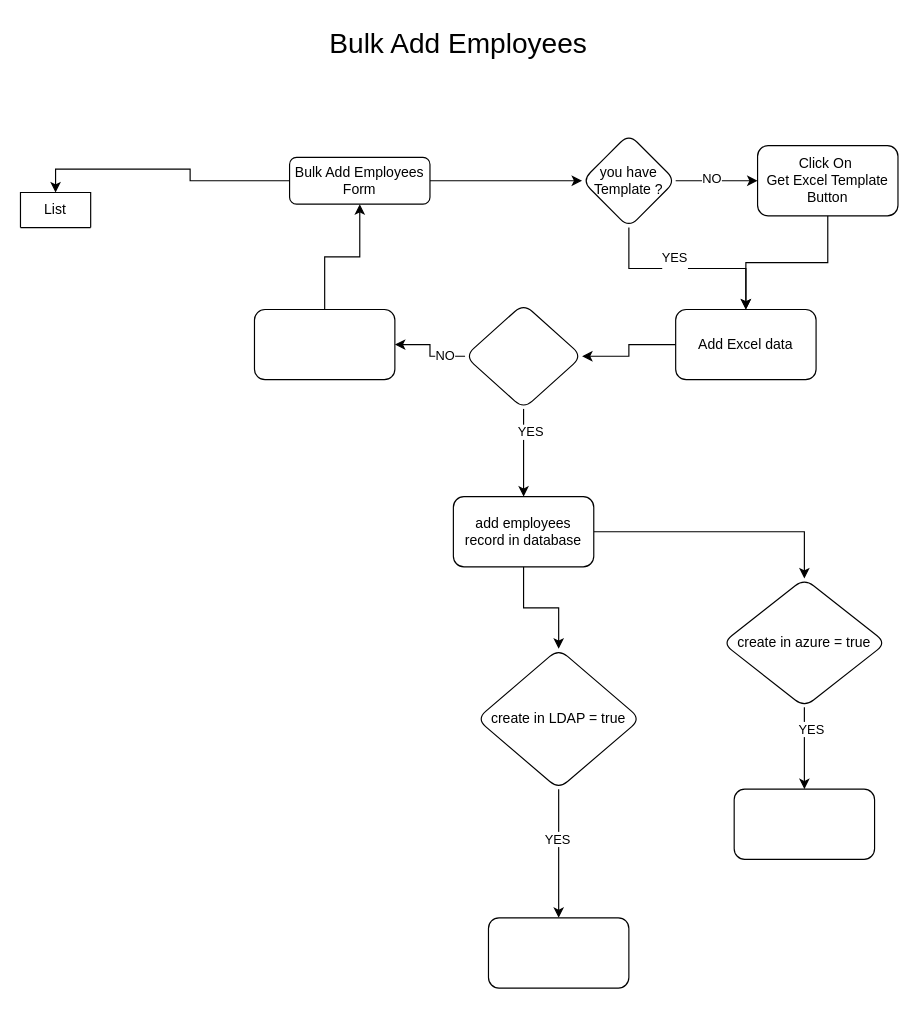
Some shapes in this 918 by 1009 pixel diagram are drawn without their labels. The centre of each missing label's shape, as x and y in pixels:
"add create azure user job" belongs at (x=804, y=823).
"add create ldap user job" belongs at (x=558, y=952).
"data is valid ?" belongs at (x=523, y=355).
"rerturn to add form with validation errors messages" belongs at (x=324, y=344).
